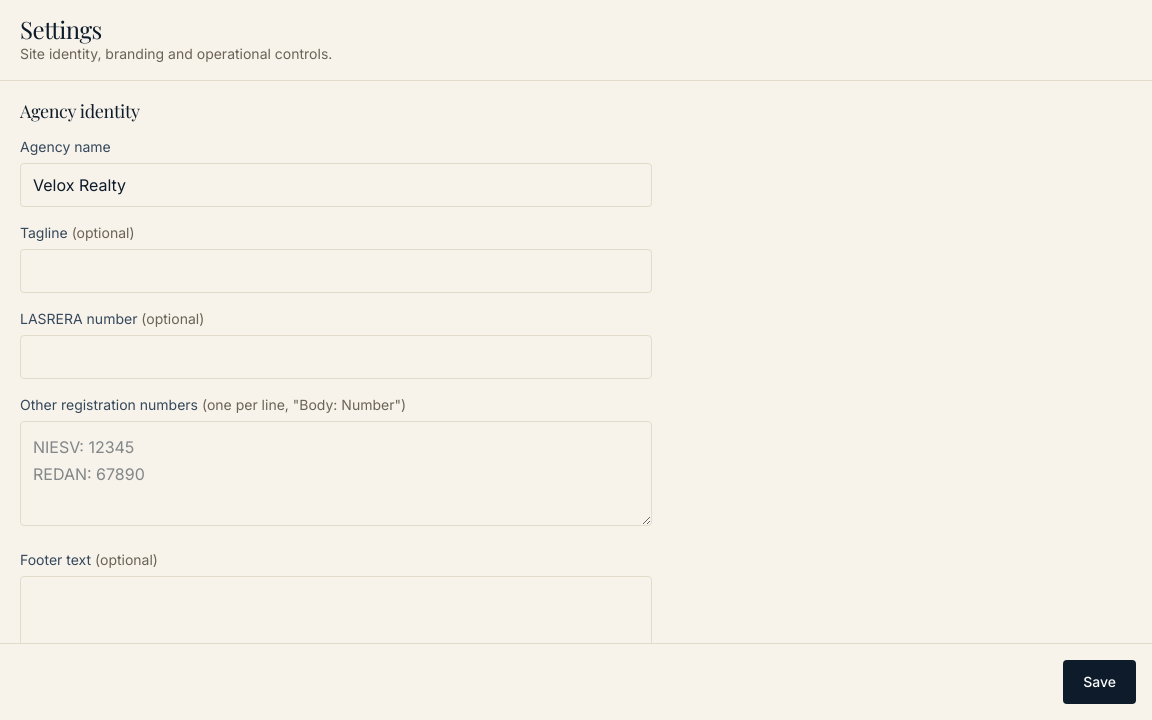
Test case: SettingsForm › maps a dotted-path server error onto its color input
Click the button "Save".
click(1100, 682)  # box [1063,660,1136,704]
(page scrolled)
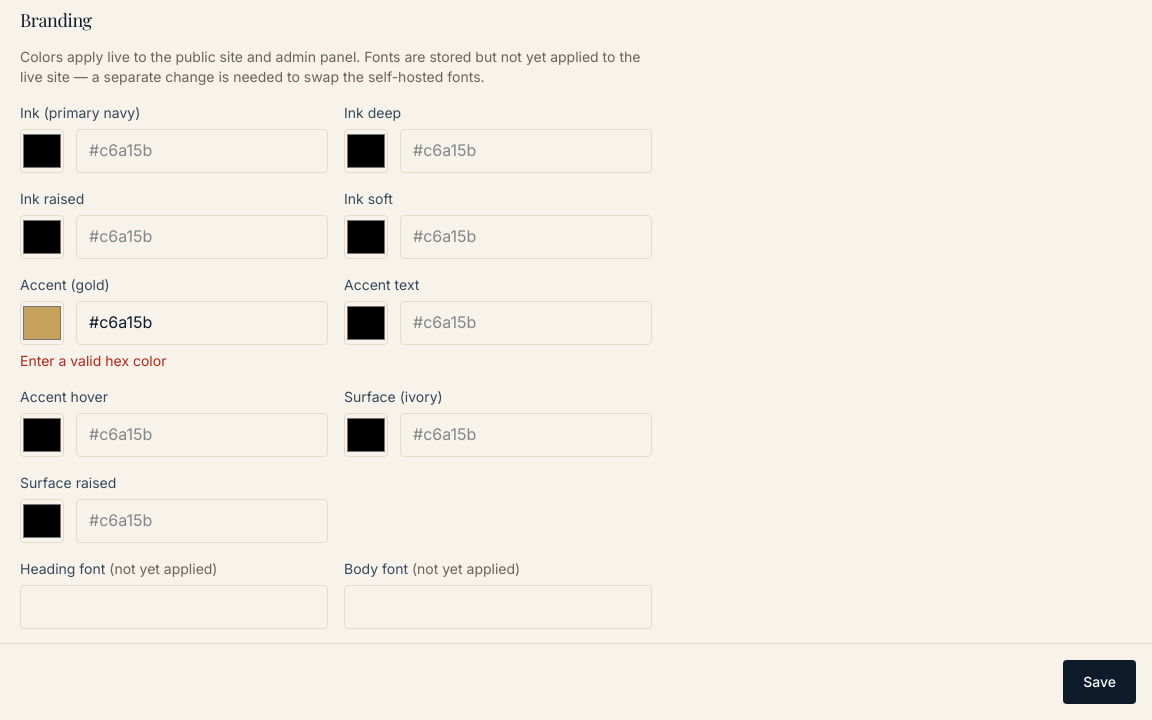
Expected: the text "Enter a valid hex color" is shown, [20,352,166,369]
